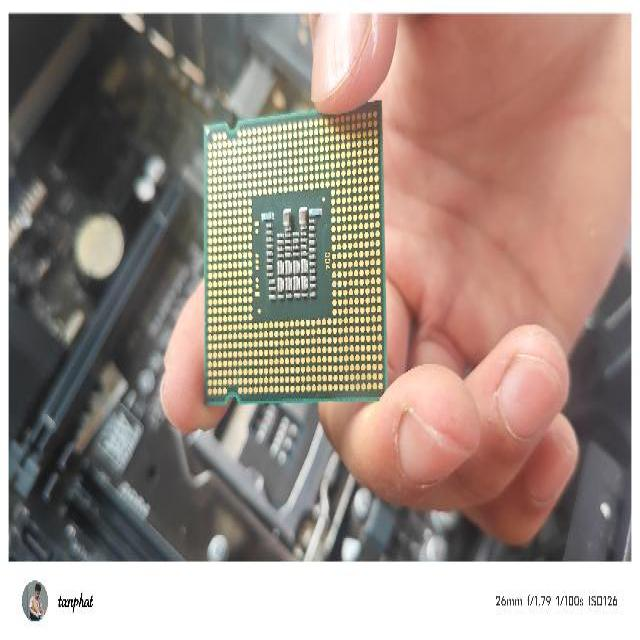CPU: (191, 95, 390, 415)
